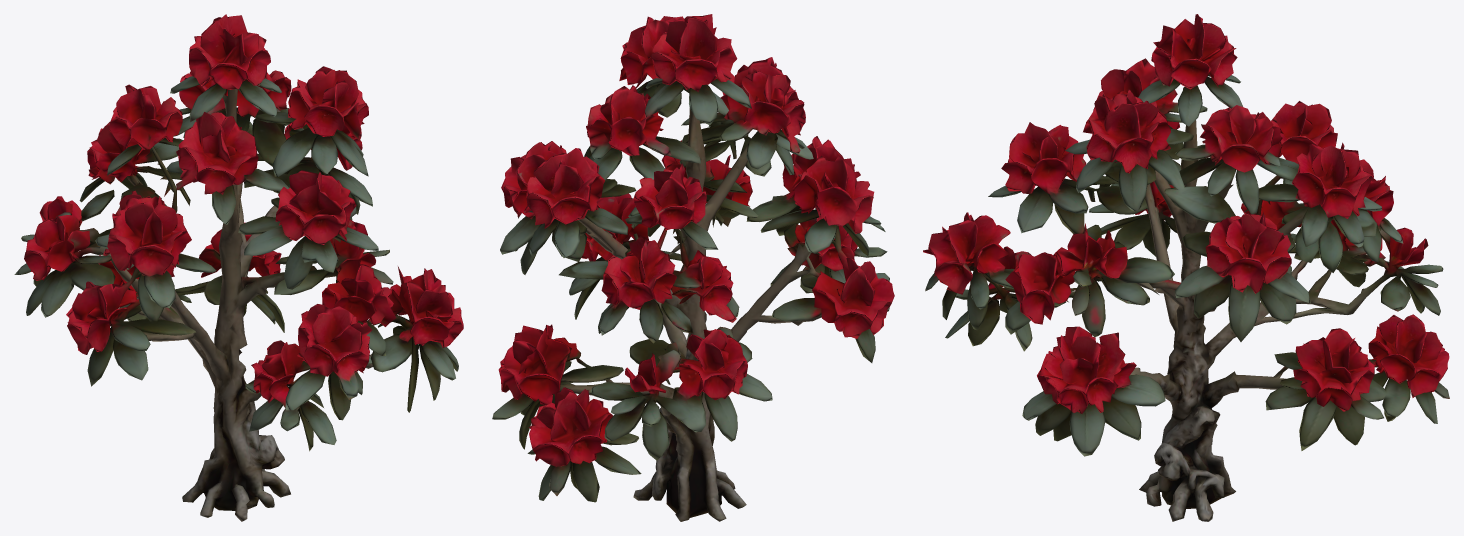
File: rhododendron.glb
3 views of the same model, side by side, from view 1: azimuth 30°, elevation 25°; view 2: azimuth 150°, elevation 25°; view 3: azimuth 270°, elevation 25° (orthographic). The views are drawn at different scales.
Visible parts, largest first — view 1: tripo_node_cad2fdb5-df9b-4665-b43a-01def247e87b; view 2: tripo_node_cad2fdb5-df9b-4665-b43a-01def247e87b; view 3: tripo_node_cad2fdb5-df9b-4665-b43a-01def247e87b.
Part boxes in pixels (left/top/right/bottom): tripo_node_cad2fdb5-df9b-4665-b43a-01def247e87b: left=14, top=14, right=463, bottom=521; tripo_node_cad2fdb5-df9b-4665-b43a-01def247e87b: left=492, top=14, right=894, bottom=521; tripo_node_cad2fdb5-df9b-4665-b43a-01def247e87b: left=923, top=14, right=1449, bottom=521.
Bounding box in the file's own units: 0.4517 × 0.6 × 0.5958.
Materials: 1 (1 with a texture image).
